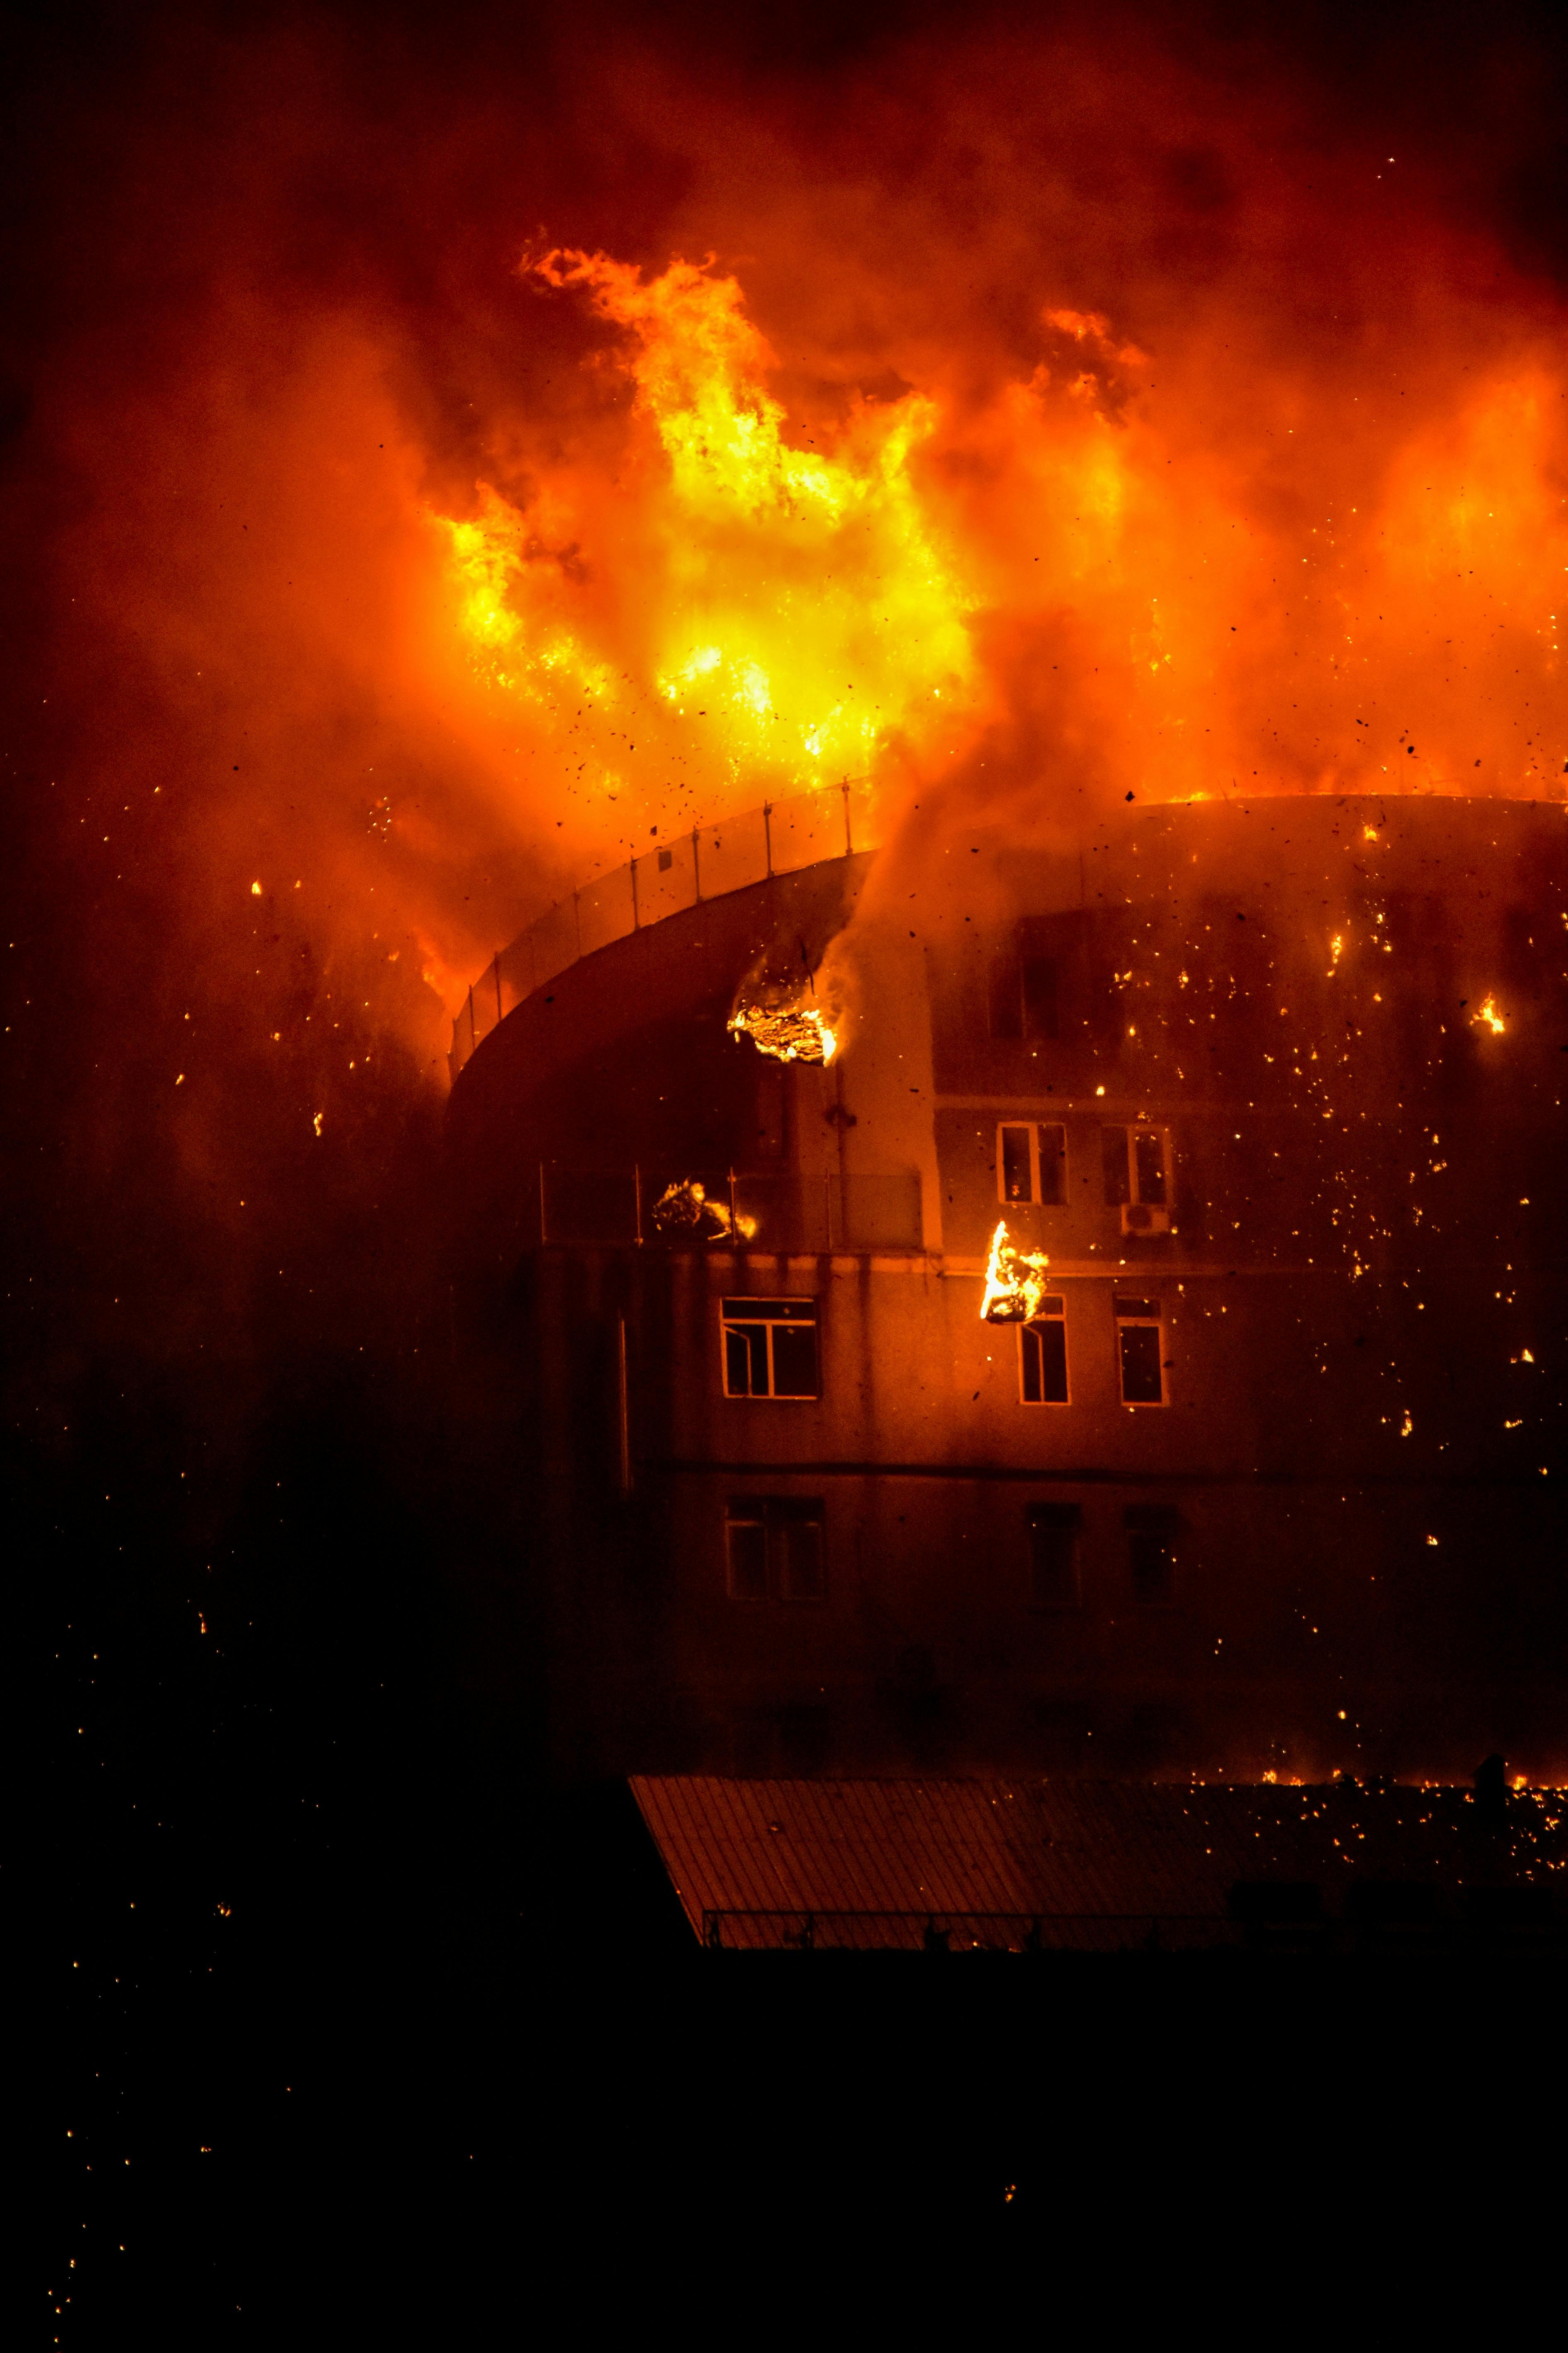smoke: (357, 206, 976, 822), (1020, 345, 1517, 831), (957, 1177, 1076, 1354), (721, 974, 854, 1085)
